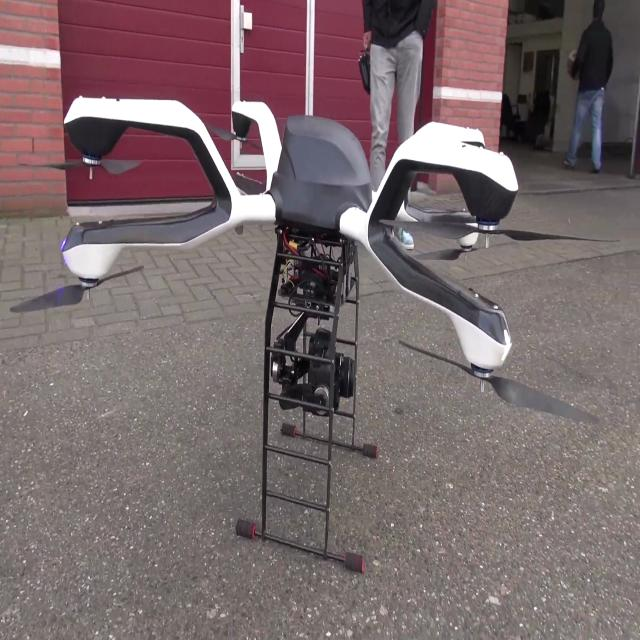drone: (62, 34, 534, 640)
